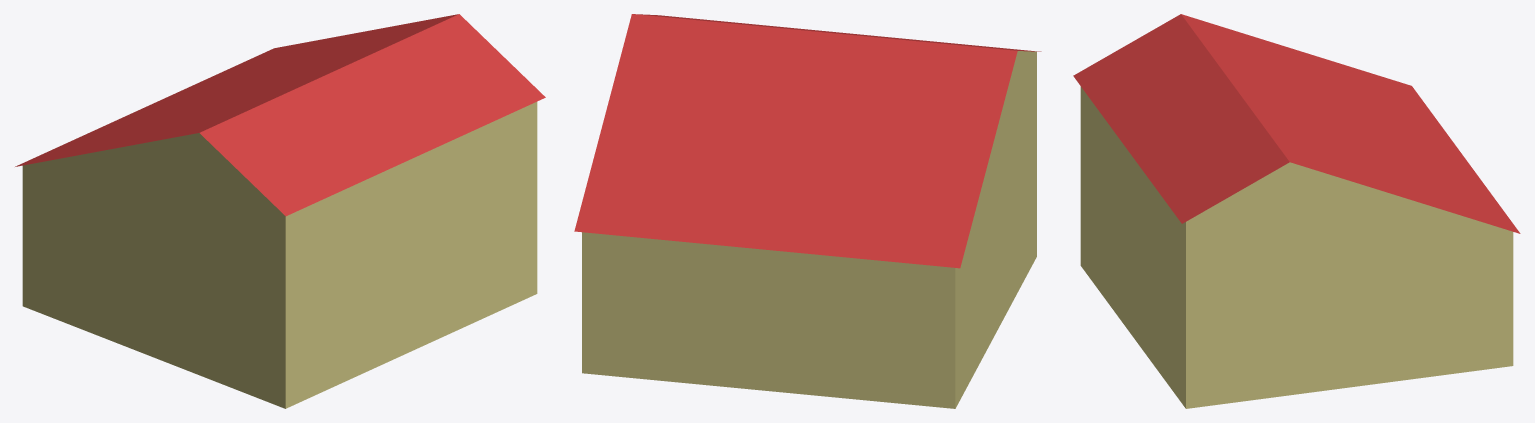
3 views of the same model, side by side, from view 1: azimuth 30°, elevation 25°; view 2: azimuth 150°, elevation 25°; view 3: azimuth 270°, elevation 25° (orthographic). The views are drawn at different scales.
Size of the model in its own units: 19.16 by 18.82 by 10.93.
